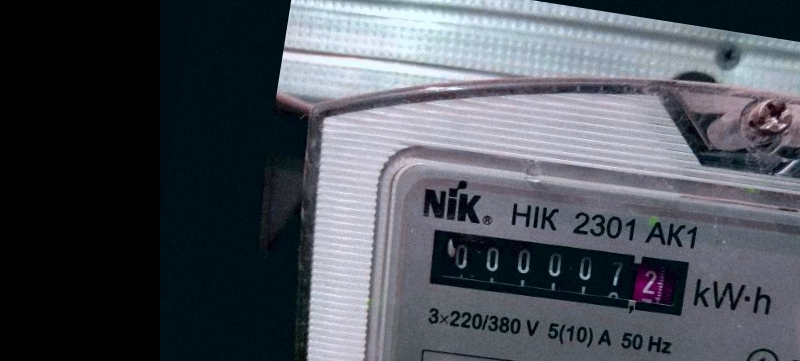0: (513, 245, 534, 275), (451, 240, 472, 269), (544, 249, 565, 278), (483, 243, 503, 272), (576, 253, 595, 283)
2: (640, 268, 660, 296)
7: (607, 256, 626, 288)
screen: (414, 214, 702, 329)
